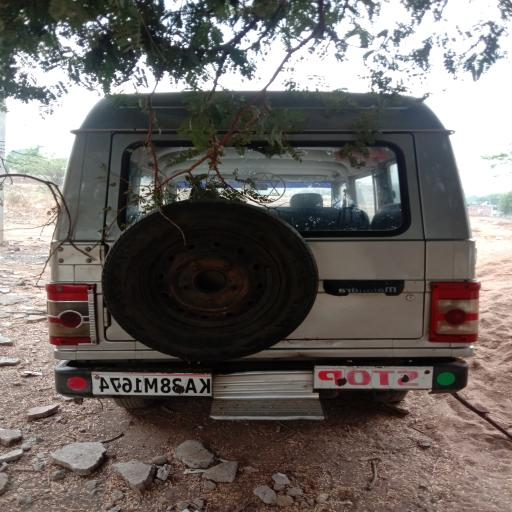License: (83, 367, 223, 401)
